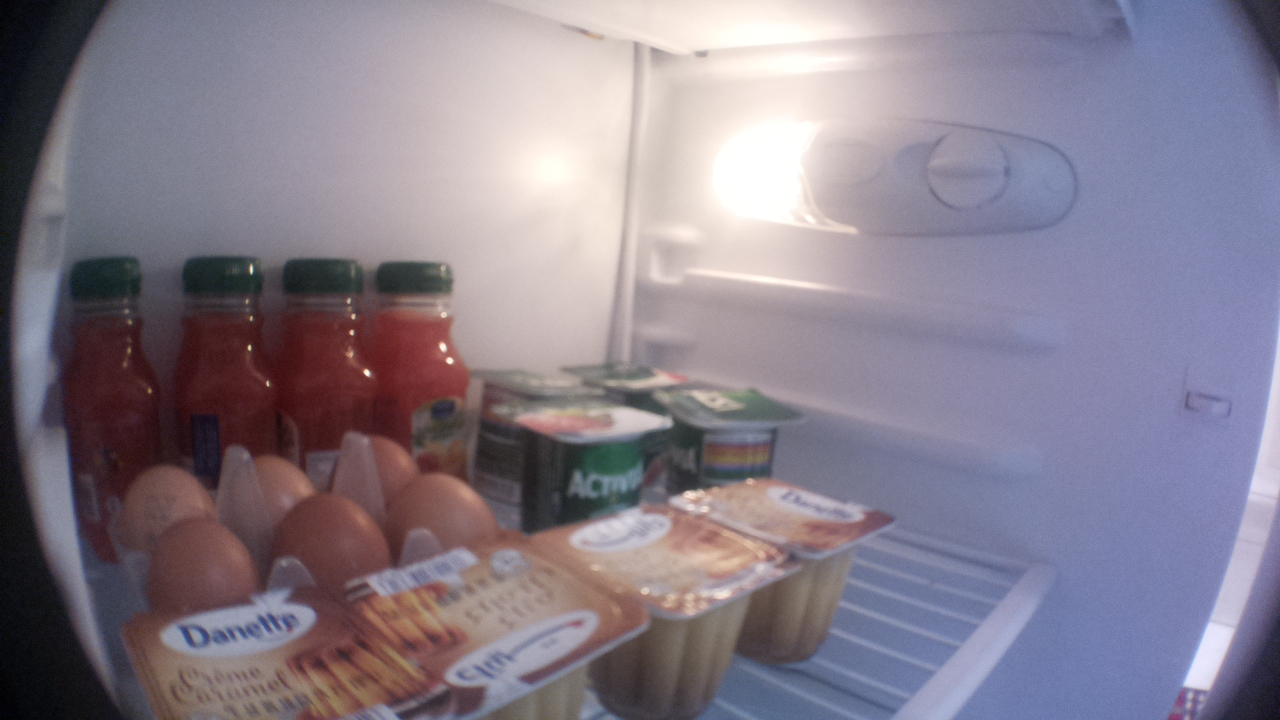caramel: (528, 492, 804, 720), (350, 530, 647, 720), (109, 578, 457, 720), (671, 466, 898, 670)
egg: (275, 494, 399, 588), (383, 468, 517, 552), (141, 518, 261, 607), (123, 451, 223, 551), (227, 451, 323, 529), (338, 431, 423, 494)
juice: (59, 254, 163, 569), (364, 252, 477, 501), (175, 249, 276, 511), (280, 254, 371, 458)
yoghurt: (494, 394, 685, 544), (471, 353, 608, 523), (654, 383, 814, 494), (564, 342, 694, 403)
